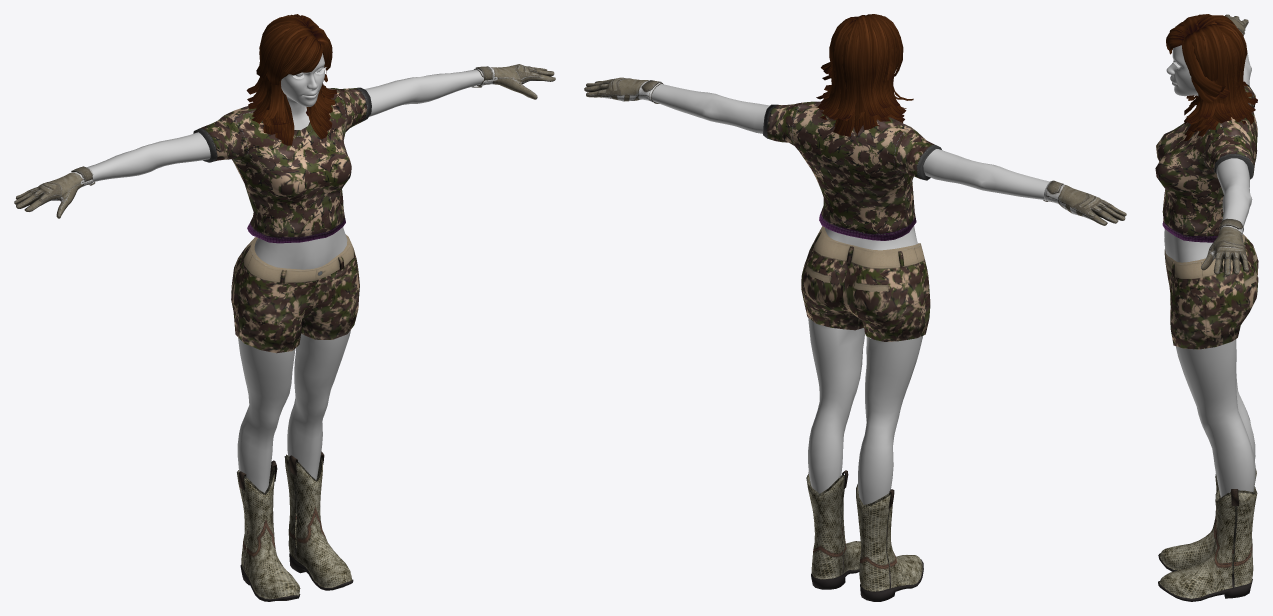
3 renders of one model, left to right at view 1: azimuth 30°, elevation 25°; view 2: azimuth 150°, elevation 25°; view 3: azimuth 270°, elevation 25°, orthographic.
Visible parts, largest first — view 1: Body, Tops, Bottoms, Shoes, Hair, Gloves; view 2: Body, Tops, Bottoms, Shoes, Hair, Gloves; view 3: Body, Tops, Shoes, Hair, Bottoms, Gloves.
Part boxes in pixels (x1,y1,x2,y2): Body: (83,53,494,492); Tops: (193,87,371,243); Bottoms: (231,234,359,353); Shoes: (237,451,353,601); Hair: (246,14,336,145); Gloves: (14,64,555,218); Body: (643,83,1049,504); Tops: (763,101,941,240); Bottoms: (801,226,930,341); Shoes: (806,470,923,601); Hair: (816,14,913,136); Gloves: (584,77,1126,225); Body: (1164,45,1255,497); Tops: (1155,84,1257,242); Shoes: (1158,468,1257,601); Hair: (1166,14,1257,140); Bottoms: (1164,234,1258,349); Gloves: (1201,14,1248,275).
Size of the model in its own units: 179 by 180 by 29.82.
